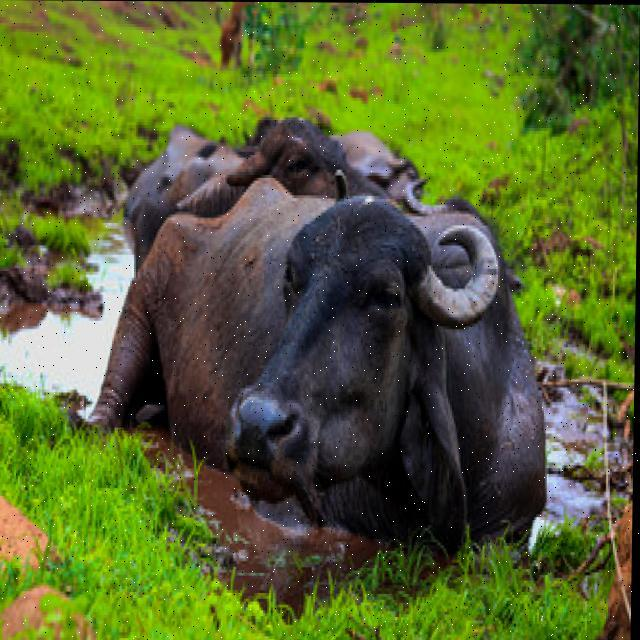Buffalo: (84, 180, 555, 542)
